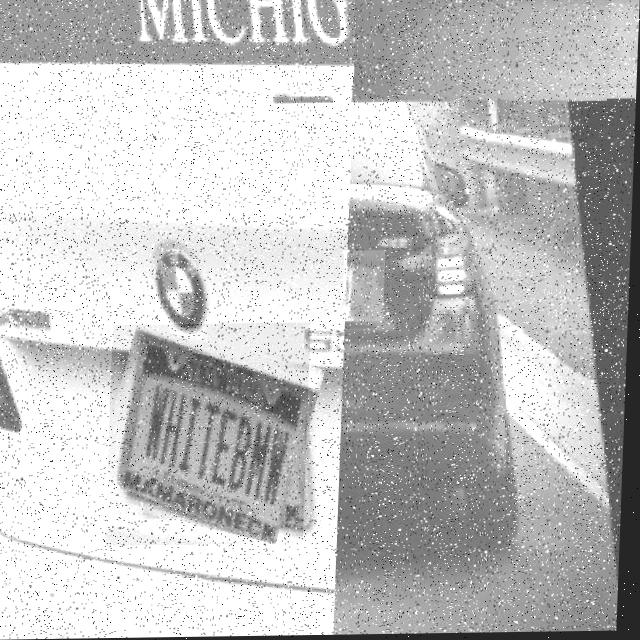LicensePlate: (111, 325, 312, 545), (353, 0, 612, 105), (344, 251, 388, 323)
